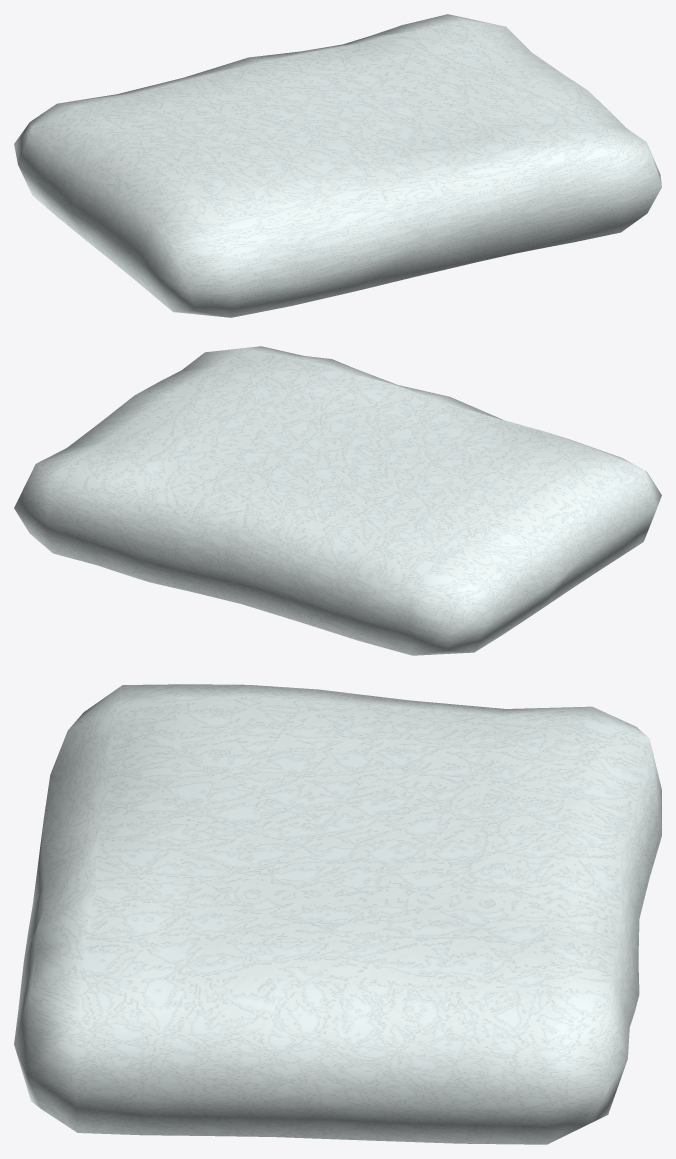
Rendered from pillow_new 1.fbx.
3 views of the same model, one above another, from view 1: azimuth 30°, elevation 25°; view 2: azimuth 150°, elevation 25°; view 3: azimuth 270°, elevation 25° (orthographic). The views are drawn at different scales.
Parts seen in each view (by area): view 1: pCube1; view 2: pCube1; view 3: pCube1.
Boxes of the visible parts, x1,y1,x2,y2 form: pCube1: (14,14,661,317); pCube1: (14,346,661,655); pCube1: (14,684,661,1144).
Size of the model in its own units: 0.766 by 0.1489 by 0.57.
Materials: 1 (1 with a texture image).
